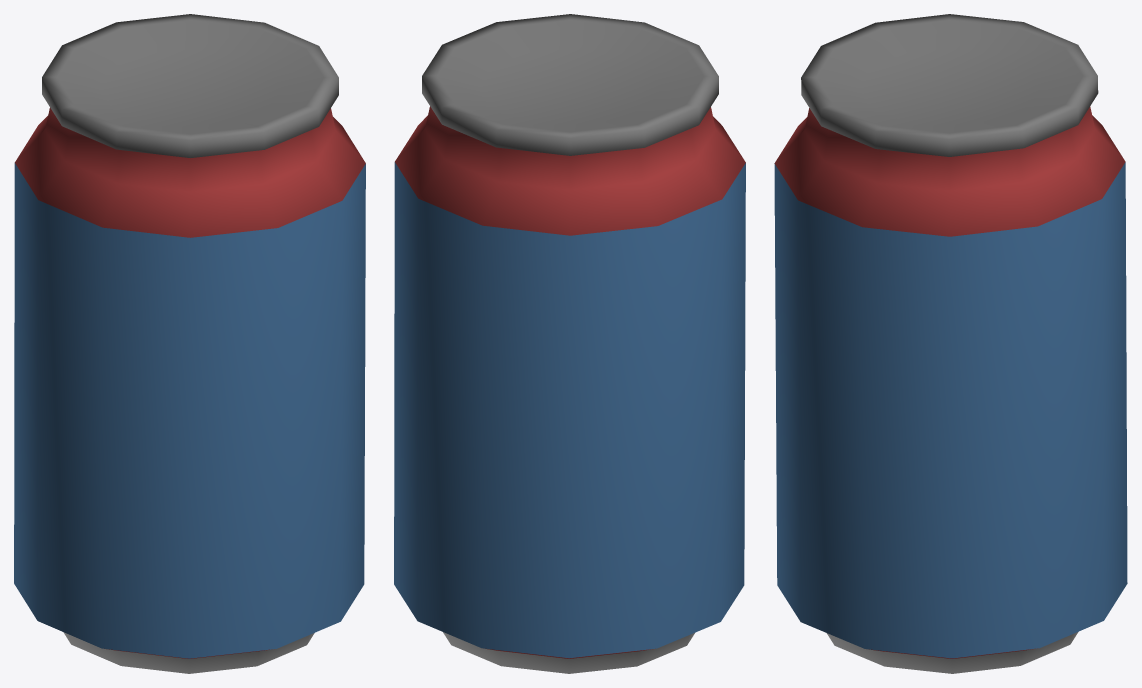
Rendered from SM_Can01.fbx.
3 views of the same model, side by side, from view 1: azimuth 30°, elevation 25°; view 2: azimuth 150°, elevation 25°; view 3: azimuth 270°, elevation 25° (orthographic).
Parts seen in each view (by area): view 1: SM_Can01; view 2: SM_Can01; view 3: SM_Can01.
Boxes of the visible parts, x1,y1,x2,y2 form: SM_Can01: (14,14,365,673); SM_Can01: (394,14,745,673); SM_Can01: (774,14,1127,673).
Bounding box in the file's own units: 9.7 × 16.48 × 9.75.
